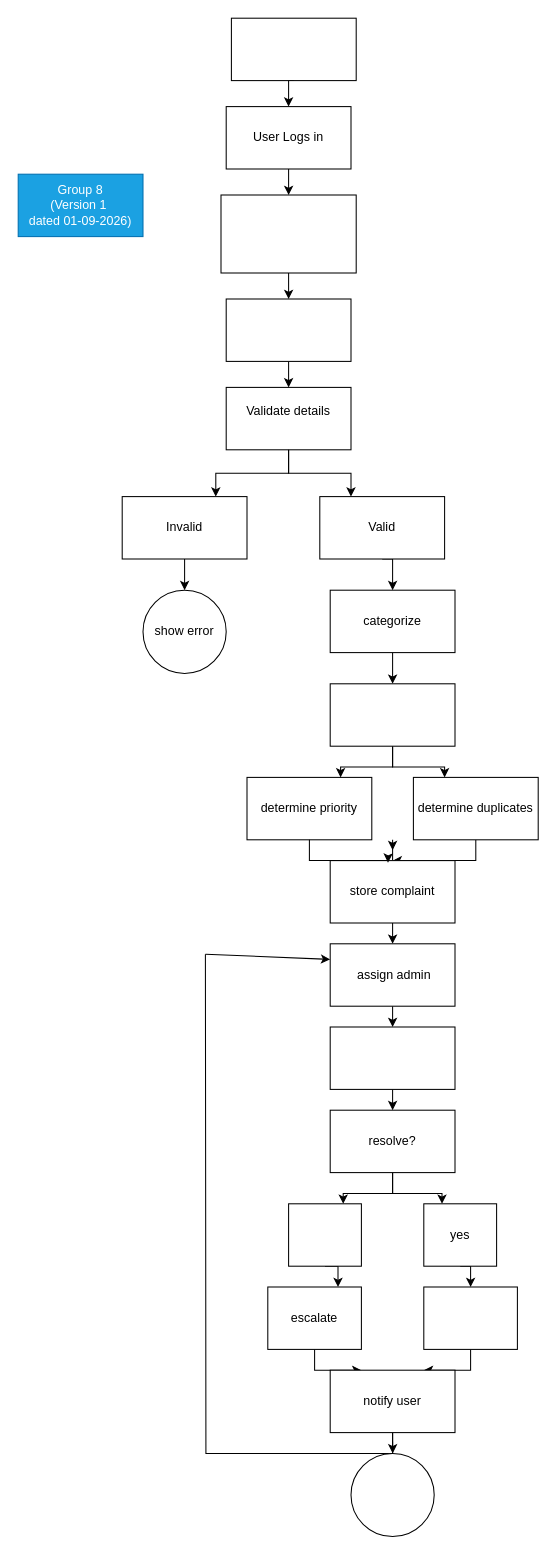
Some shapes in this 556 by 1555 pixel diagram are drawn without their labels. The box of each missing label's shape, as (x1, y1, x2, y2) in pixels:
close case: (350, 1452, 434, 1537)
Enter complaint details: (225, 298, 351, 361)
Lodge complaint: (220, 194, 356, 273)
no: (288, 1203, 361, 1266)
resolve: (423, 1286, 517, 1349)
smart classification: (329, 683, 455, 746)
Start: (230, 17, 356, 81)
update status: (329, 1026, 455, 1089)
